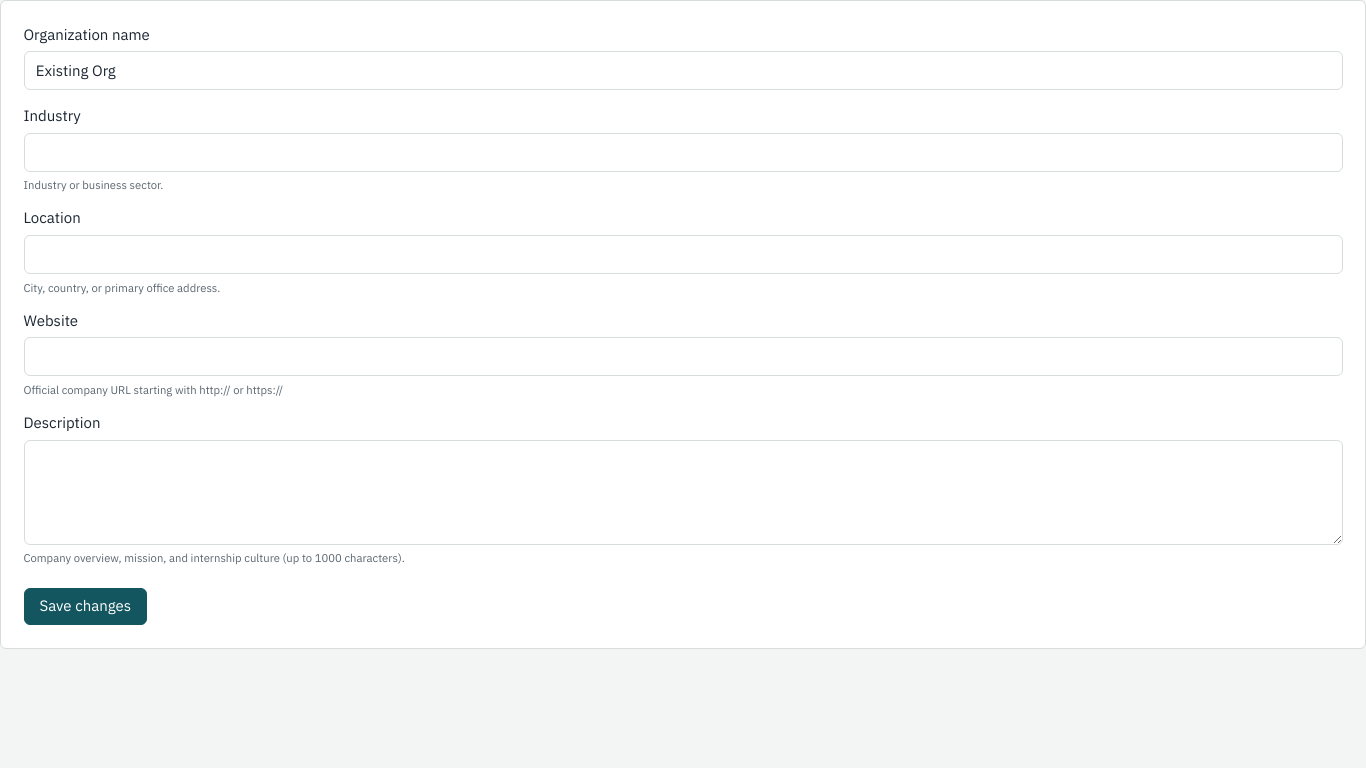
Test: OrganizationProfileForm Component › validates required organization name on client before saving
Clear the field labelled "Organization name" at coordinates (683, 71), box [24,51,1342,90]
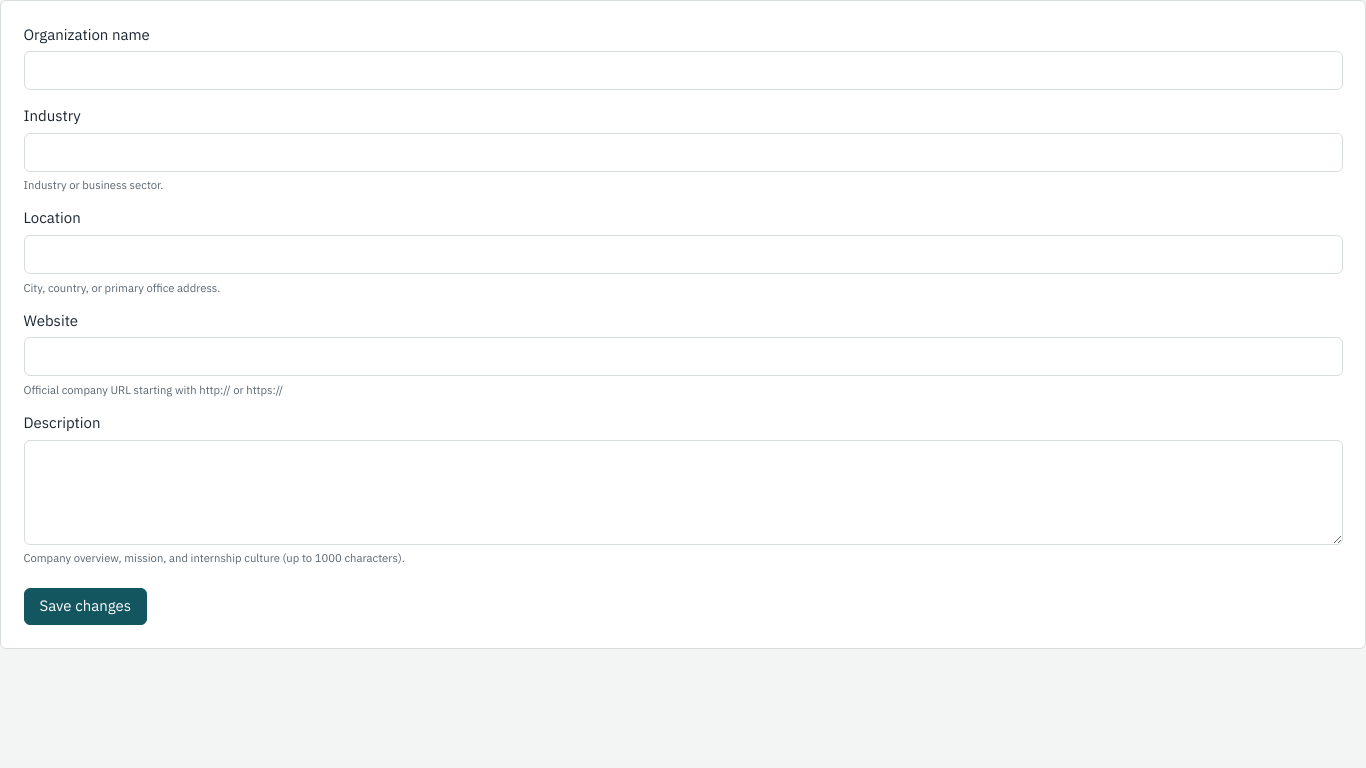
Click the button "Save changes" at coordinates (85, 606), box [24,588,147,625]
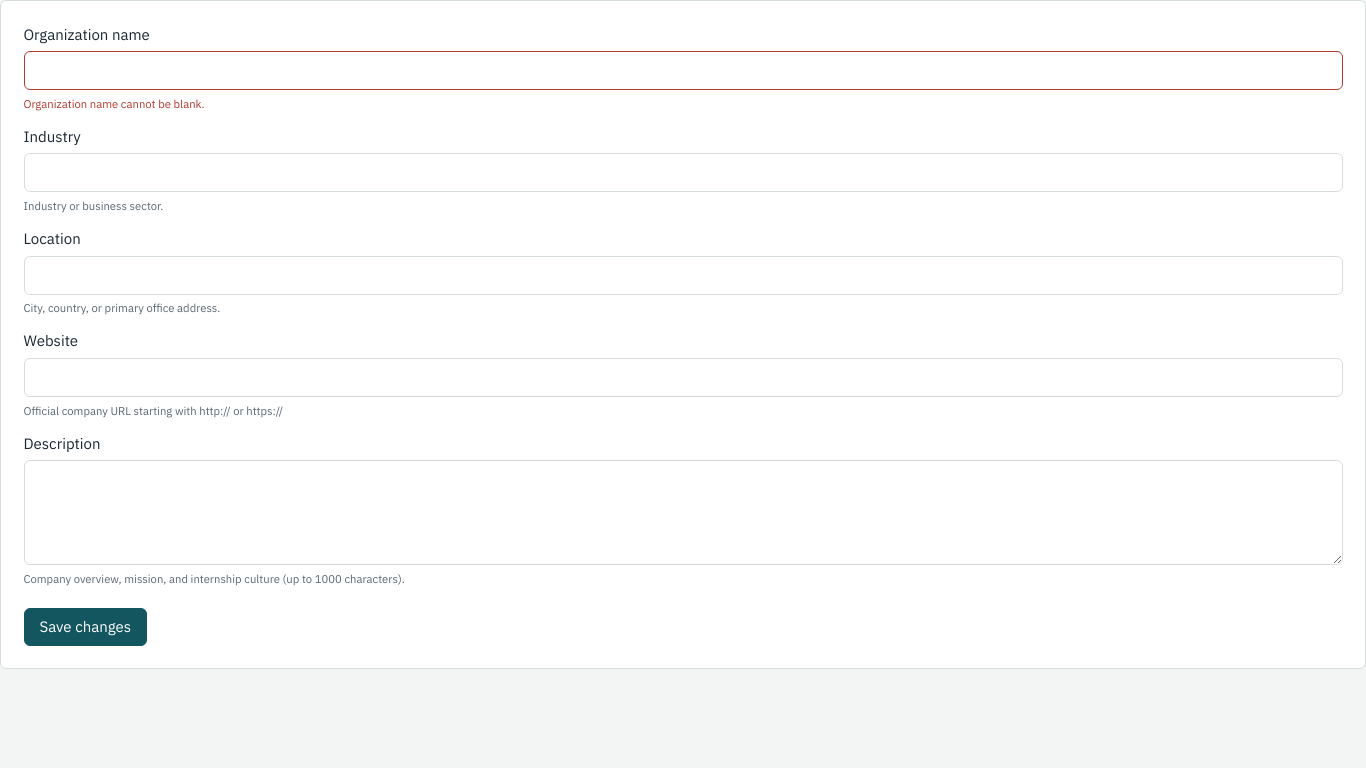
expect the text "Organization name cannot be blank." is shown: met, box [24,96,204,111]
